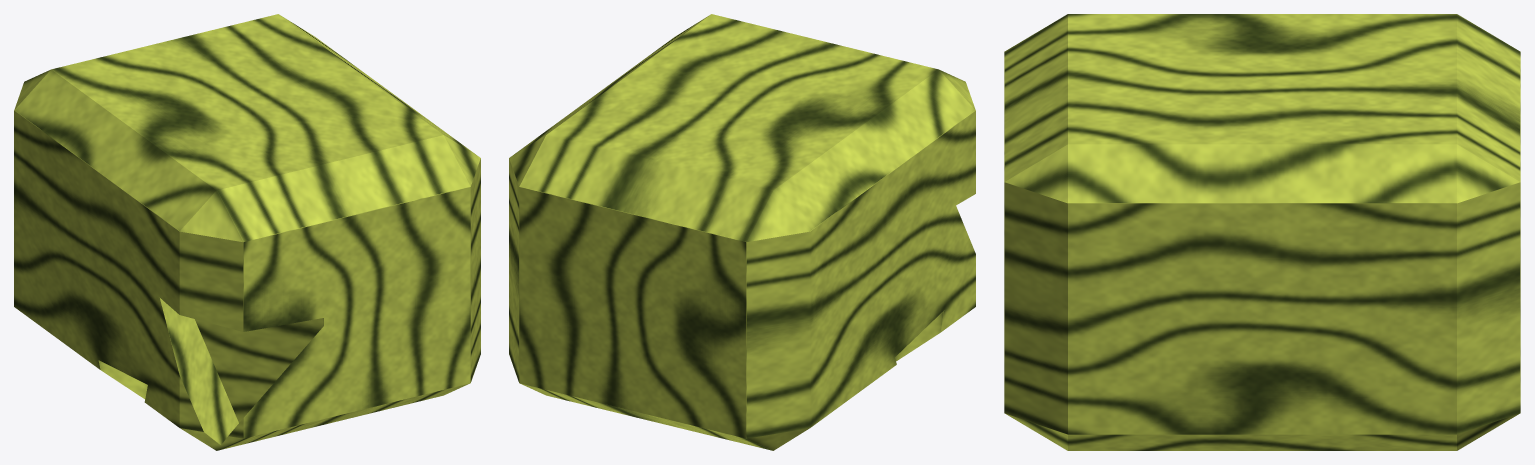
Rendered from bed.glb.
The picture shows the model from 3 angles, left to right: view 1: azimuth 30°, elevation 25°; view 2: azimuth 150°, elevation 25°; view 3: azimuth 270°, elevation 25°; orthographic projection. The views are drawn at different scales.
Visible parts, largest first — view 1: geometry_0; view 2: geometry_0; view 3: geometry_0.
Part boxes in pixels (x1=…): geometry_0: x1=14, y1=14, x2=480, y2=450; geometry_0: x1=509, y1=14, x2=975, y2=450; geometry_0: x1=1004, y1=14, x2=1520, y2=450.
Size of the model in its own units: 1.98 by 1.64 by 2.5.
Materials: 1 (1 with a texture image).
